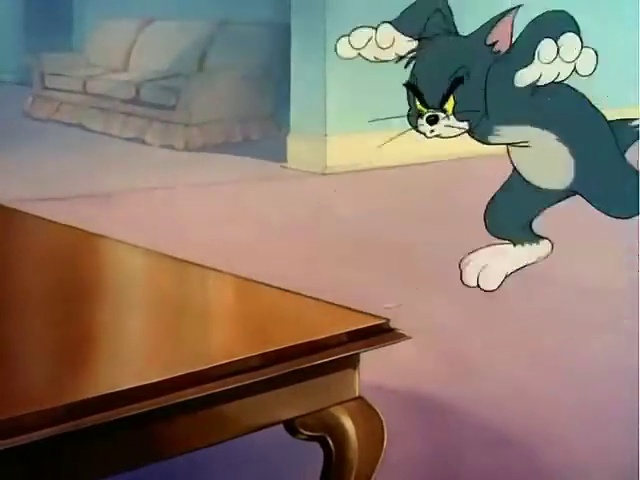tom: (339, 10, 639, 289)
